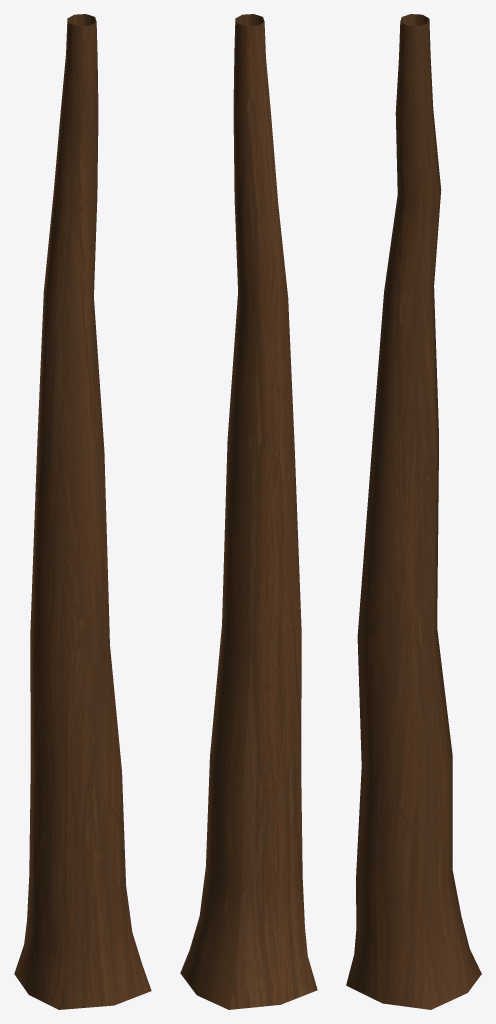
File: Tree_Tall.fbx
3 renders of one model, left to right at view 1: azimuth 30°, elevation 25°; view 2: azimuth 210°, elevation 25°; view 3: azimuth 330°, elevation 25°, orthographic.
Visible parts, largest first — view 1: pCylinder1; view 2: pCylinder1; view 3: pCylinder1.
Boxes of the visible parts, x1,y1,x2,y2 form: pCylinder1: (14,14,151,1009); pCylinder1: (180,14,317,1009); pCylinder1: (346,14,481,1009).
Bounding box in the file's own units: 104 × 900 × 107.
Materials: 1 (1 with a texture image).
